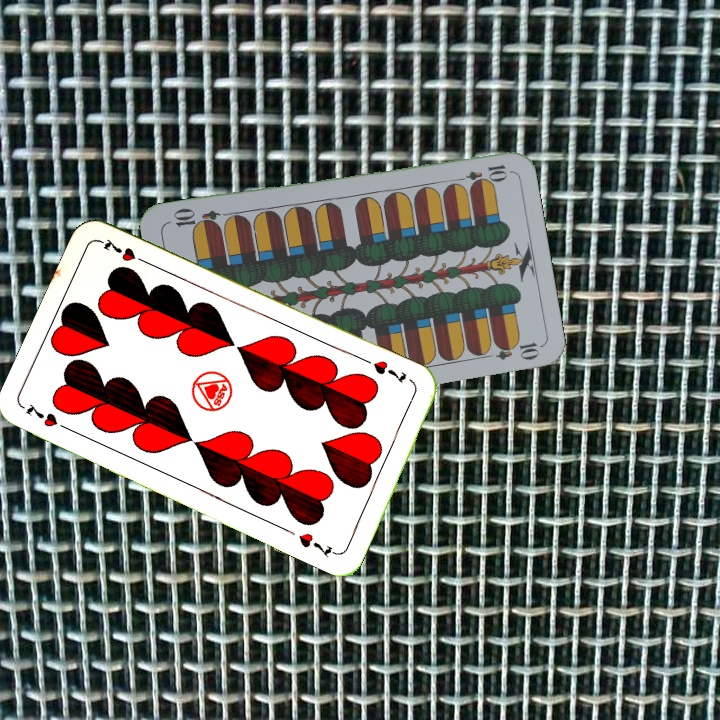E10: (451, 160, 510, 187)
H7: (22, 399, 75, 435), (368, 356, 409, 386)
